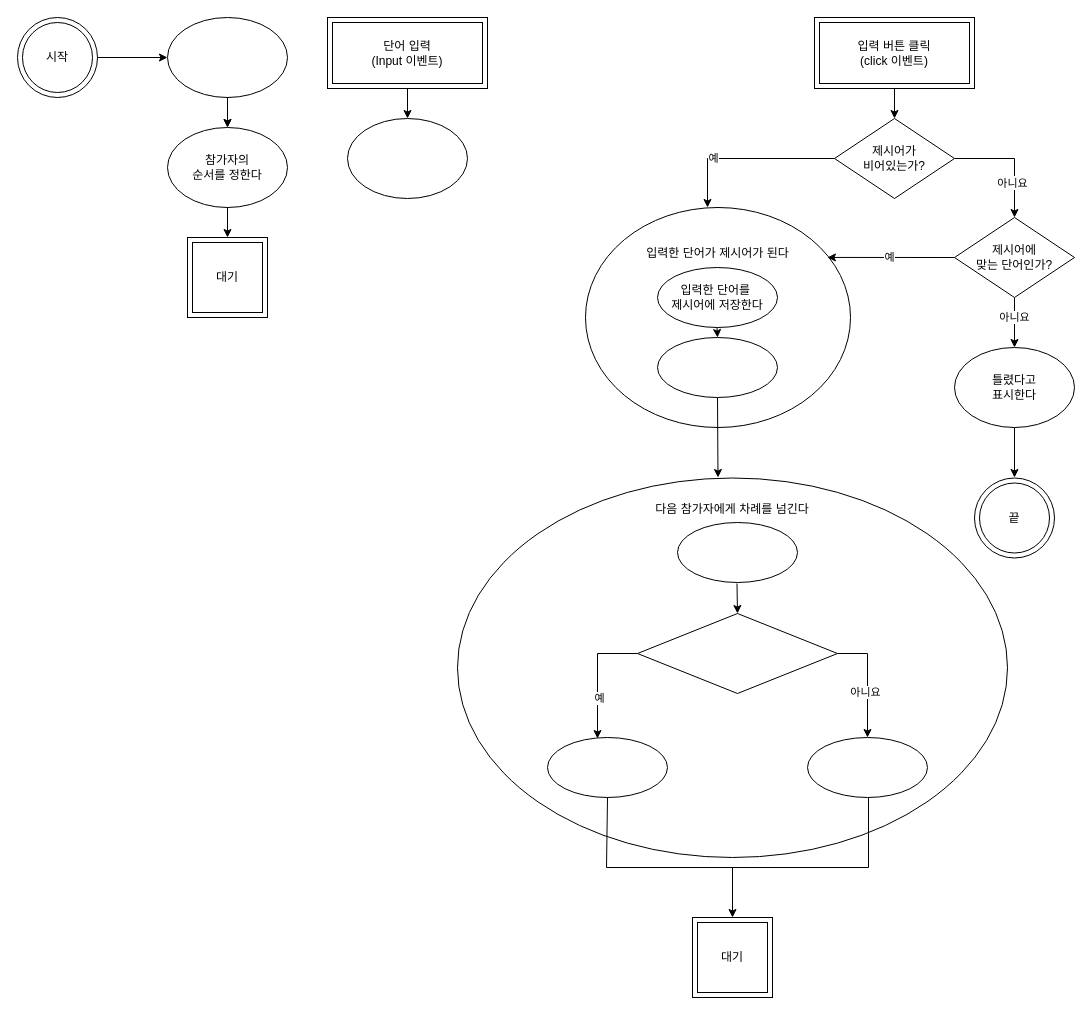
This 1092x1015 diagram has some shape labels left out. Here are the shapes that lost their labels. From the top down, the centre of each, then its label:
At [227,57]: "몇 명이 참가할지 선택한다".
At [407,158]: "입력한 단어를 저장한다".
At [717,367]: "제시어를 화면에 표시한다".
At [737,552]: "현재 순서를 파악한다".
At [737,653]: "현재 순서에 1을 더한 값이 NUMBER보다 큰가?".
At [607,767]: "다음 순서를 1로".
At [867,767]: "다음 순서를 현재 순서 + 1로".
